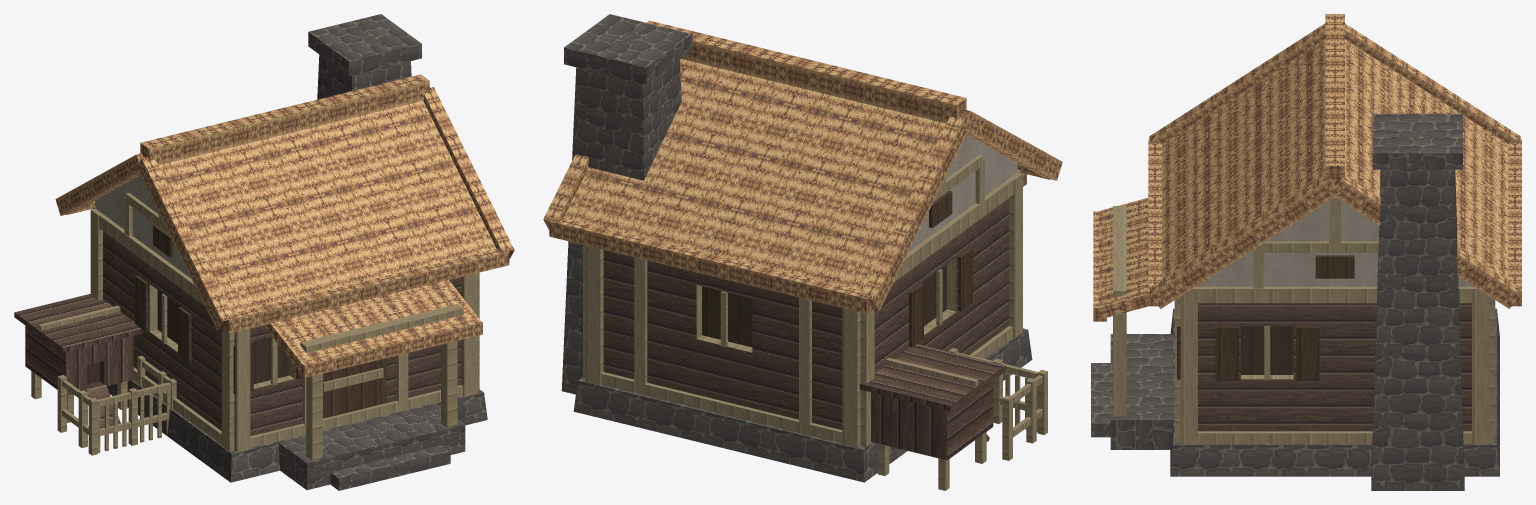
Rendered from farmhouse_stage2.glb.
The picture shows the model from 3 angles, left to right: view 1: azimuth 30°, elevation 25°; view 2: azimuth 150°, elevation 25°; view 3: azimuth 270°, elevation 25°; orthographic projection. The views are drawn at different scales.
Visible parts, largest first — view 1: farmhouse_stage2; view 2: farmhouse_stage2; view 3: farmhouse_stage2.
Part boxes in pixels (bbox=[...]): farmhouse_stage2: bbox=[14, 14, 514, 490]; farmhouse_stage2: bbox=[543, 14, 1062, 490]; farmhouse_stage2: bbox=[1091, 14, 1521, 490].
Bounding box in the file's own units: 6.13 × 4.94 × 5.72.
Materials: 8 (8 with a texture image).
